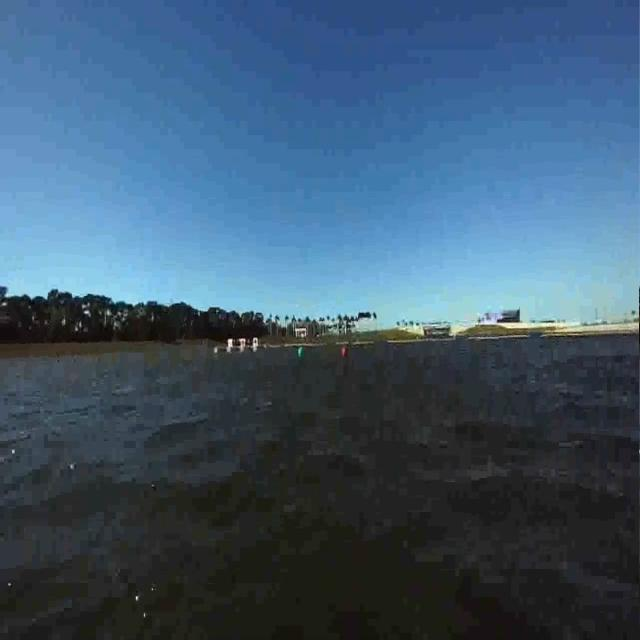green-buoy: (298, 346, 304, 358)
